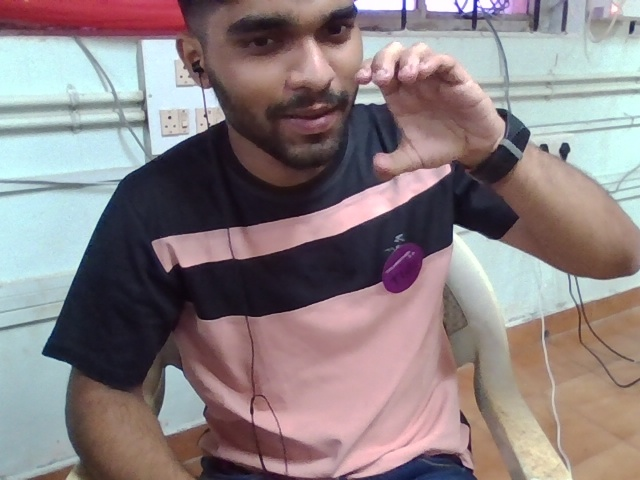Drink: (251, 28, 512, 220)
